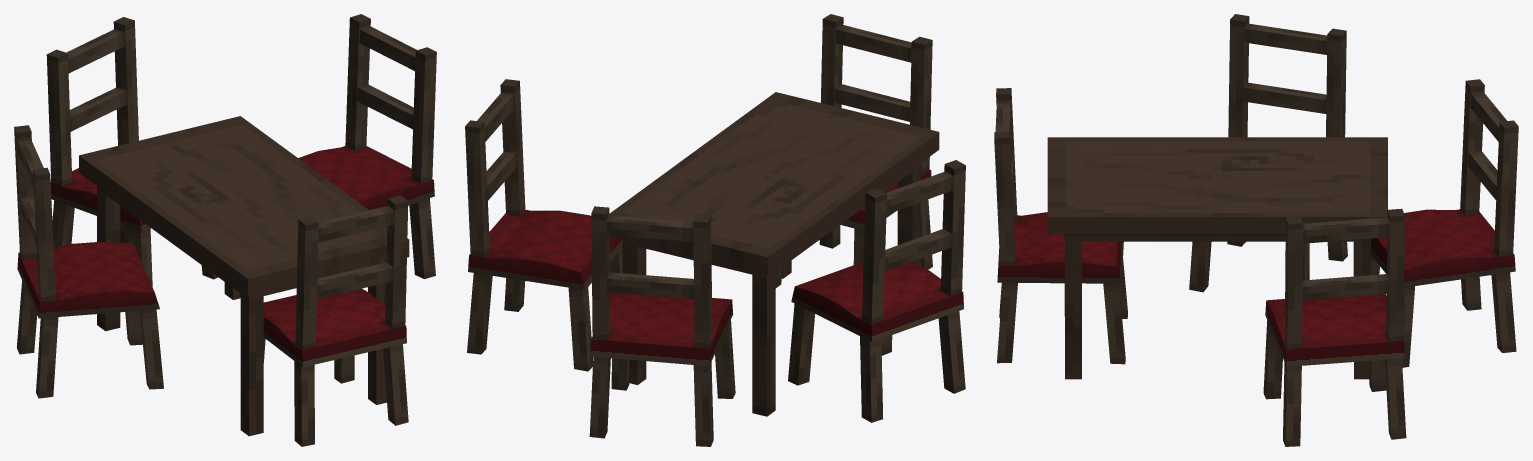
File: chair.glb
The picture shows the model from 3 angles, left to right: view 1: azimuth 30°, elevation 25°; view 2: azimuth 150°, elevation 25°; view 3: azimuth 270°, elevation 25°; orthographic projection.
Visible parts, largest first — view 1: Cube.001_3, Cube.004_6, Cube.002_4, Cube.003_5, Cube_0; view 2: Cube.001_3, Cube.002_4, Cube_0, Cube.003_5, Cube.004_6; view 3: Cube.001_3, Cube.003_5, Cube_0, Cube.004_6, Cube.002_4.
Boxes of the visible parts, x1,y1,x2,y2 form: Cube.001_3: [79, 116, 409, 436]; Cube.004_6: [263, 195, 408, 446]; Cube.002_4: [14, 125, 163, 398]; Cube.003_5: [298, 14, 436, 279]; Cube_0: [46, 17, 217, 286]; Cube.001_3: [609, 92, 939, 416]; Cube.002_4: [788, 160, 965, 422]; Cube_0: [589, 206, 735, 446]; Cube.003_5: [465, 79, 622, 371]; Cube.004_6: [775, 14, 932, 288]; Cube.001_3: [1047, 137, 1387, 379]; Cube.003_5: [1263, 208, 1406, 446]; Cube_0: [1371, 79, 1518, 367]; Cube.004_6: [994, 88, 1127, 364]; Cube.002_4: [1189, 14, 1347, 292].
Bounding box in the file's own units: 8.31 × 4.28 × 8.76.
2 materials, 2 textured.
